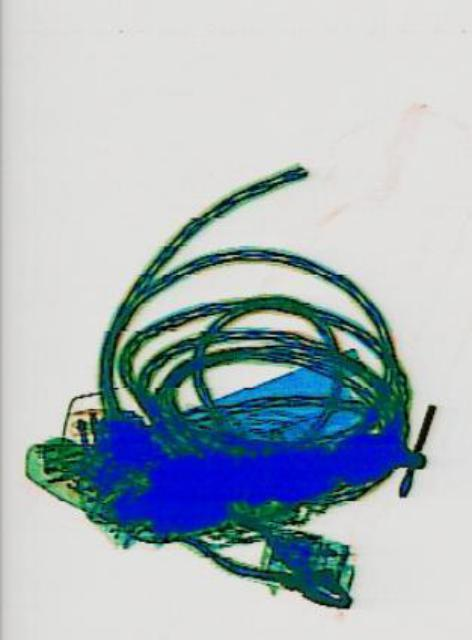Pliers: (178, 488, 358, 630)
